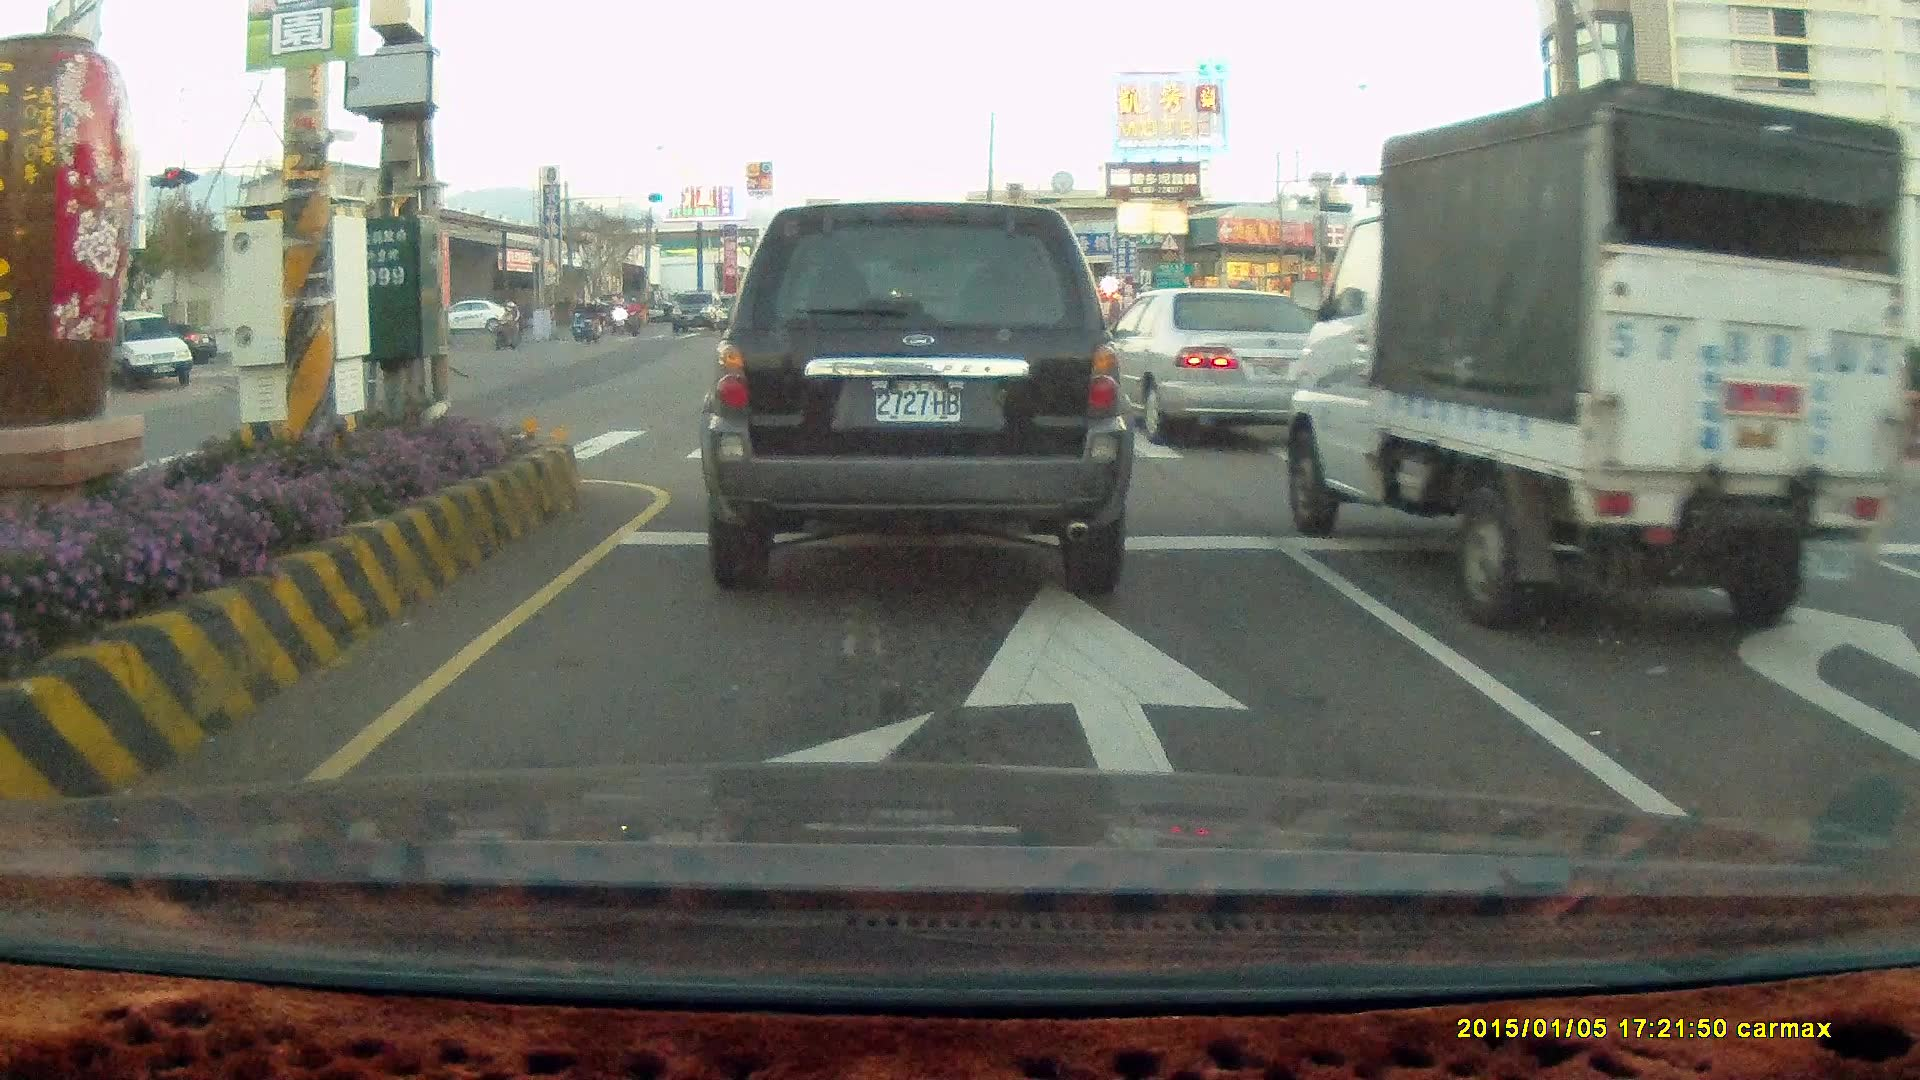rider: (492, 298, 526, 346), (578, 293, 606, 345), (568, 292, 590, 341), (623, 294, 643, 337)
vehicle: (1287, 76, 1903, 637), (695, 198, 1134, 598), (1092, 281, 1354, 444), (1097, 286, 1347, 452), (1698, 285, 1856, 373), (94, 311, 196, 390), (448, 299, 510, 336)
